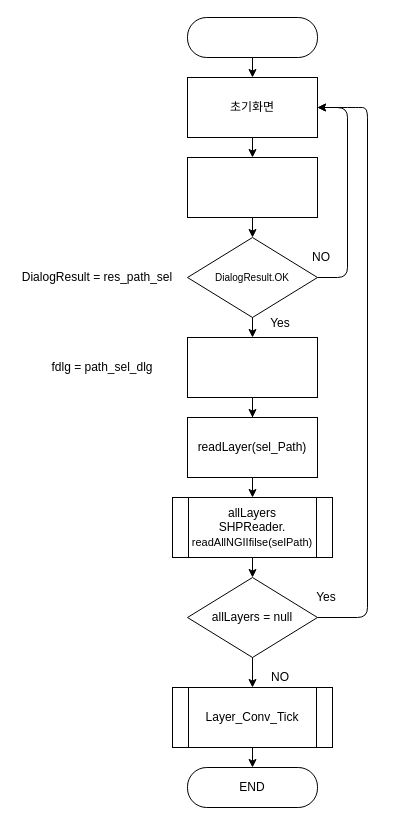
Image size: 393x825. Some labels were removed from this diagram. The centre of each missing label's shape, as x and y in pixels:
sel_path = fdlg.SelctedPath: the point at 252,367
Sel_Path 클릭: the point at 252,187
Start: the point at 252,37
